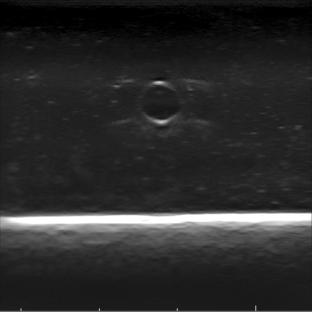vessel: (137, 79, 186, 127)
